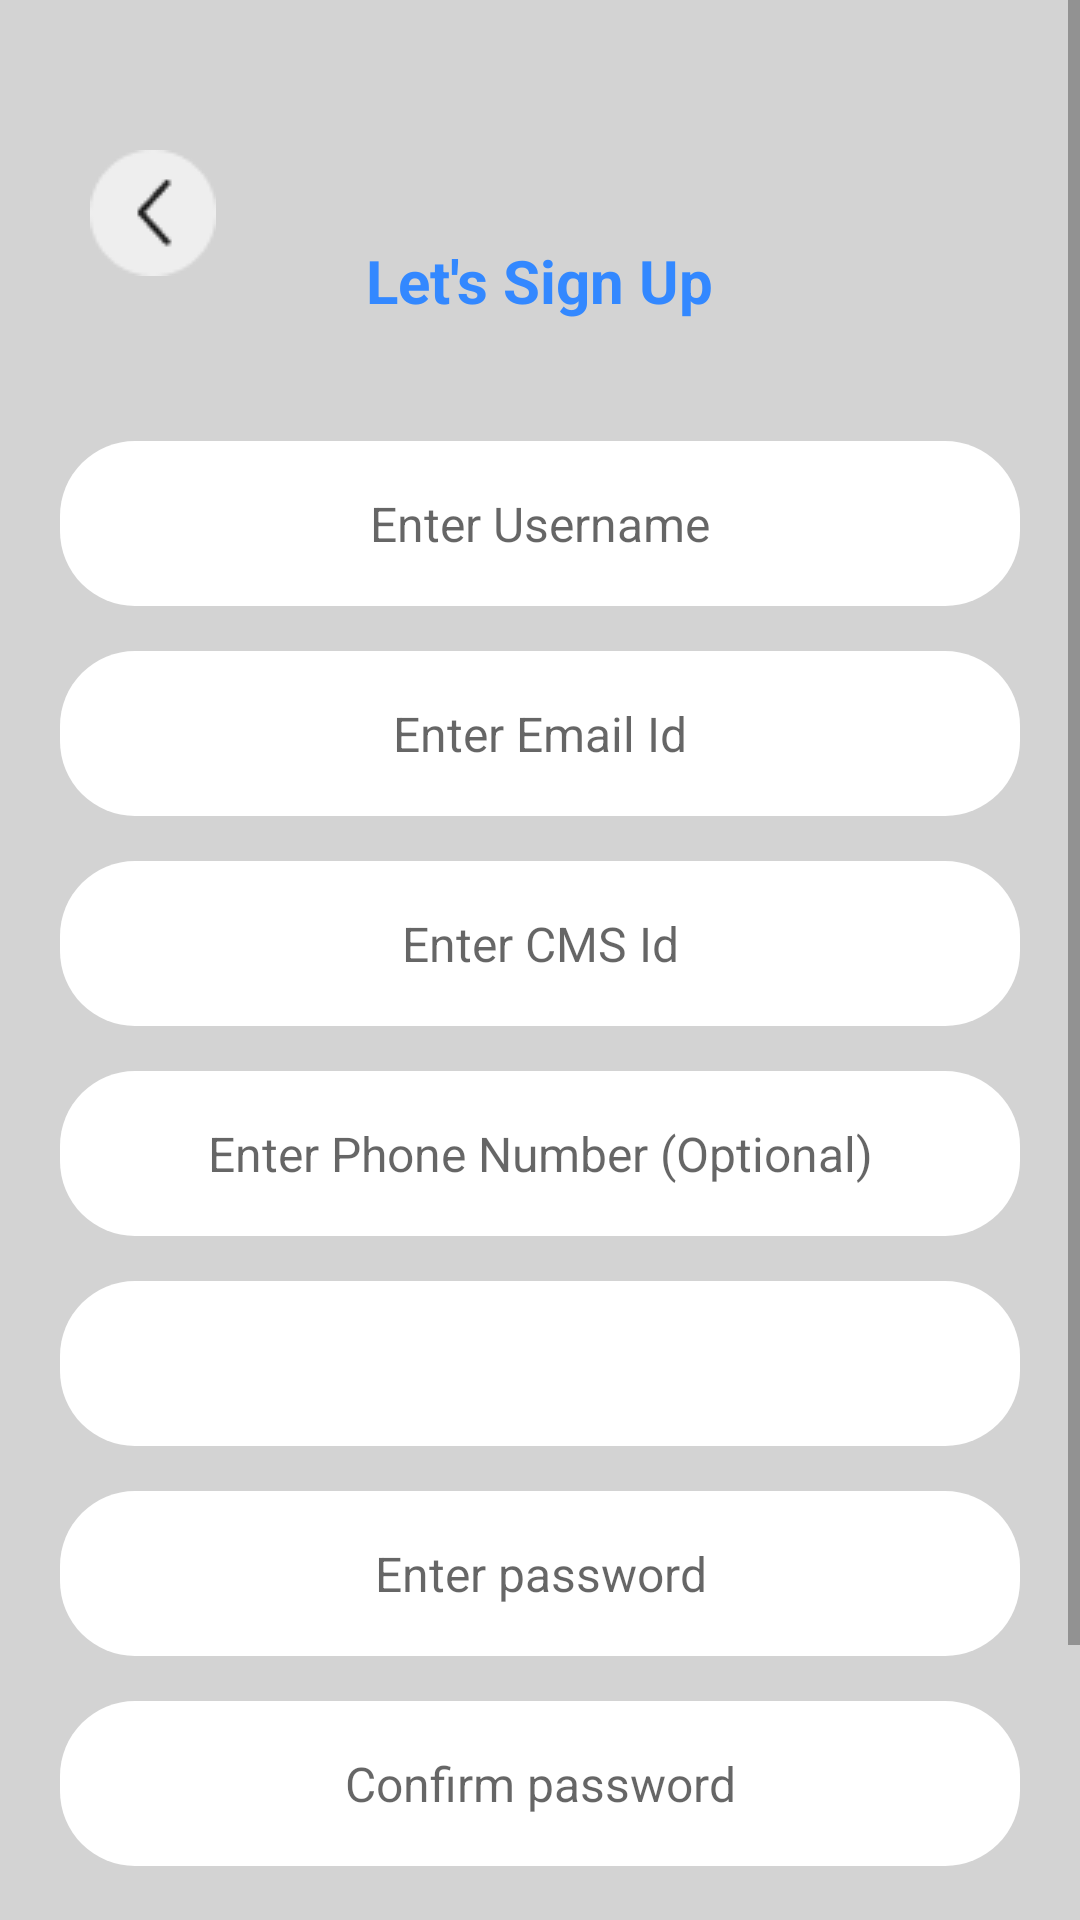

Icons on this 1080×1920 Android screen, each with its box as (x1, y1, x2, y2):
arrow back: (90, 150, 216, 276)
